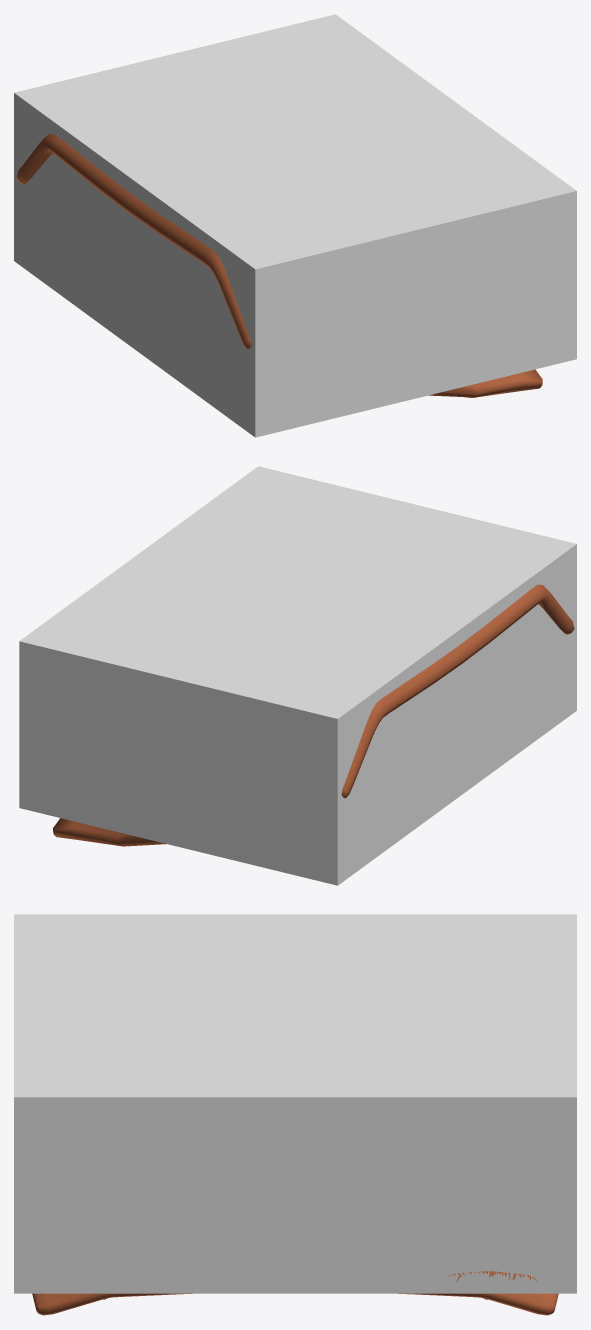
Rendered from SM_GoblinCamp_Tent.fbx.
The picture shows the model from 3 angles, top to bottom: view 1: azimuth 30°, elevation 25°; view 2: azimuth 150°, elevation 25°; view 3: azimuth 270°, elevation 25°; orthographic projection. The views are drawn at different scales.
Visible parts, largest first — view 1: Col_GoblinCamp_Tent, SM_GoblinCamp_Tent; view 2: Col_GoblinCamp_Tent, SM_GoblinCamp_Tent; view 3: Col_GoblinCamp_Tent, SM_GoblinCamp_Tent.
Part boxes in pixels (<box>): Col_GoblinCamp_Tent: <box>14,14,576,437</box>; SM_GoblinCamp_Tent: <box>16,134,542,397</box>; Col_GoblinCamp_Tent: <box>19,466,576,885</box>; SM_GoblinCamp_Tent: <box>53,584,574,846</box>; Col_GoblinCamp_Tent: <box>14,914,576,1293</box>; SM_GoblinCamp_Tent: <box>32,1271,558,1315</box>.
Size of the model in its own units: 426 by 237 by 520.
